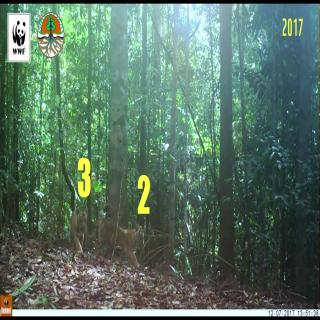Tiger: (96, 214, 146, 274), (69, 202, 88, 260)
